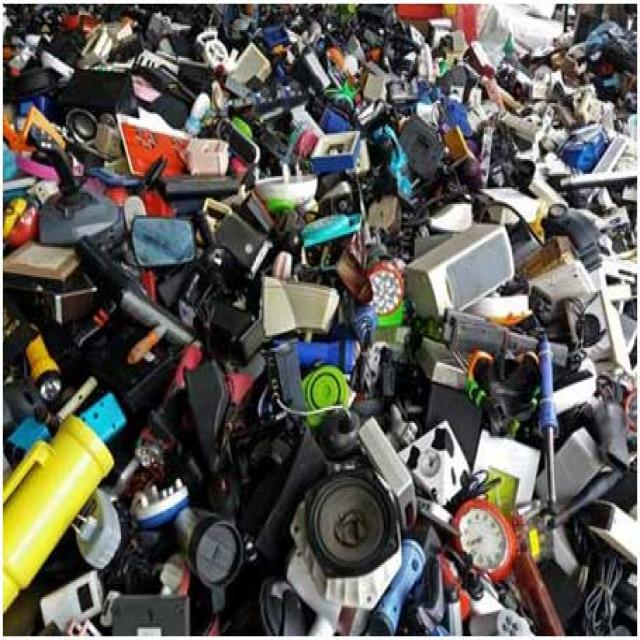hazard: (4, 24, 628, 627)
